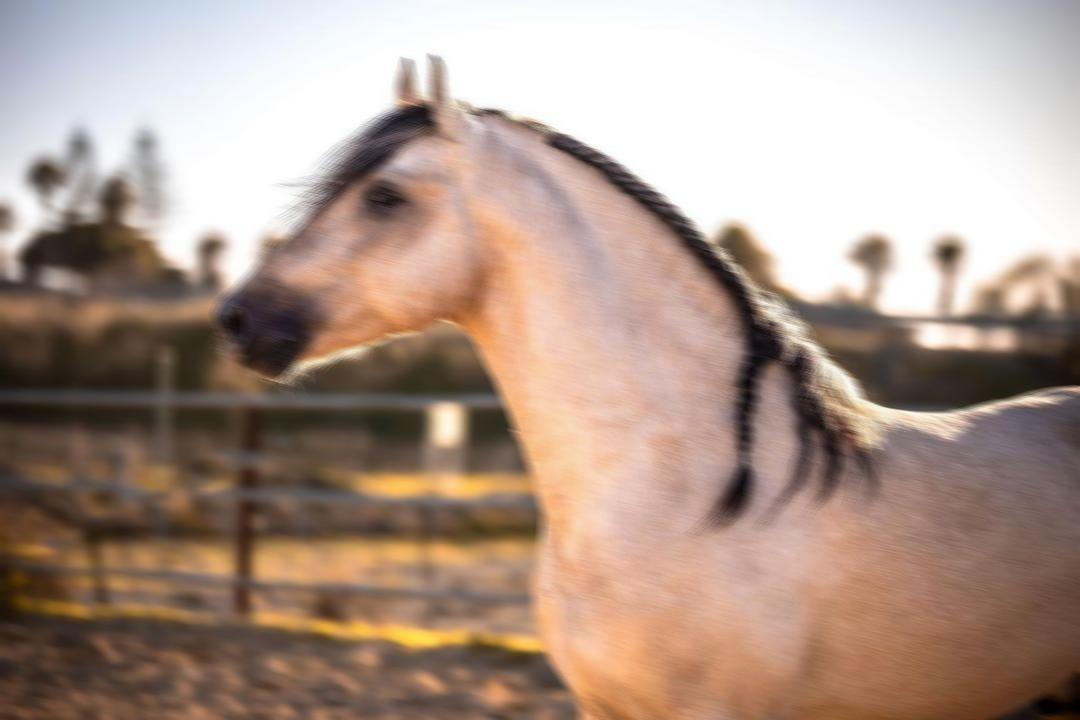horse: (210, 52, 1080, 719)
